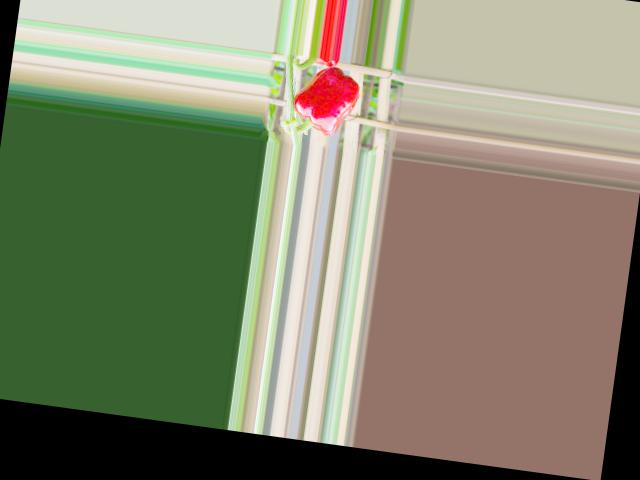bell_pepper: (284, 62, 367, 139)
